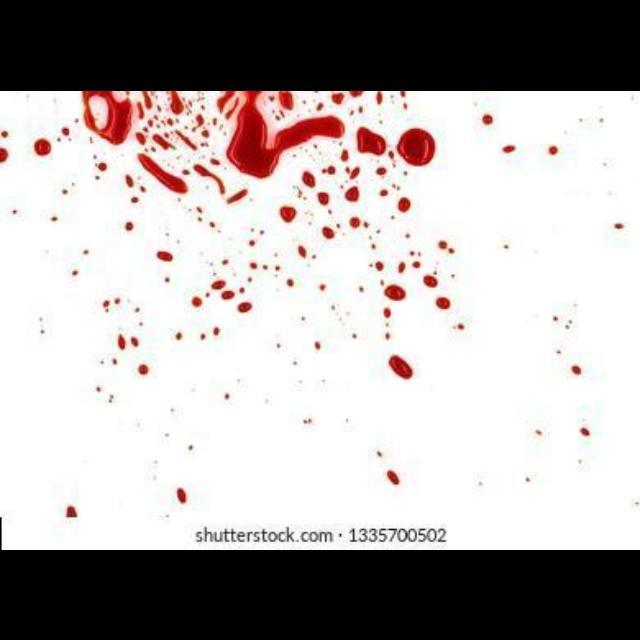blood: (41, 90, 507, 447), (217, 90, 346, 176), (83, 90, 144, 143), (139, 155, 187, 191), (397, 126, 437, 165), (358, 126, 387, 153), (33, 138, 51, 155), (1, 146, 8, 161)
